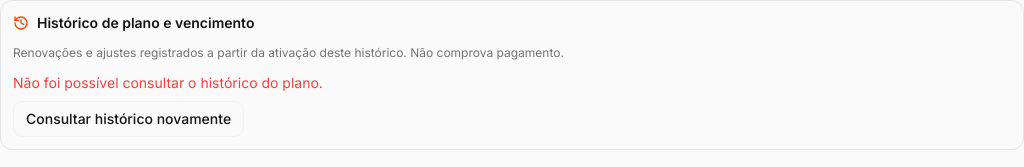
Test case: plan history in the student record › offers retry after a failure and explains an actual empty history
The width and height of the screenshot is (1024, 167).
Expected: the message shows "Não foi possível consultar", x1=13 y1=74 x2=323 y2=91
Expected: the text "Nenhuma alteração registrada" is not shown
Click the button "Consultar histórico novamente".
click(129, 119)  # box x1=13 y1=101 x2=244 y2=137
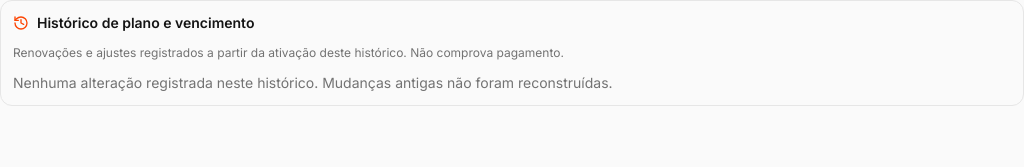
Now the text "Mudanças antigas não foram reconstruídas" is shown, box x1=13 y1=74 x2=613 y2=91
